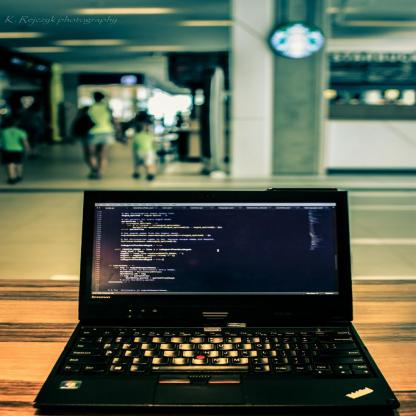board: (28, 190, 402, 414)
